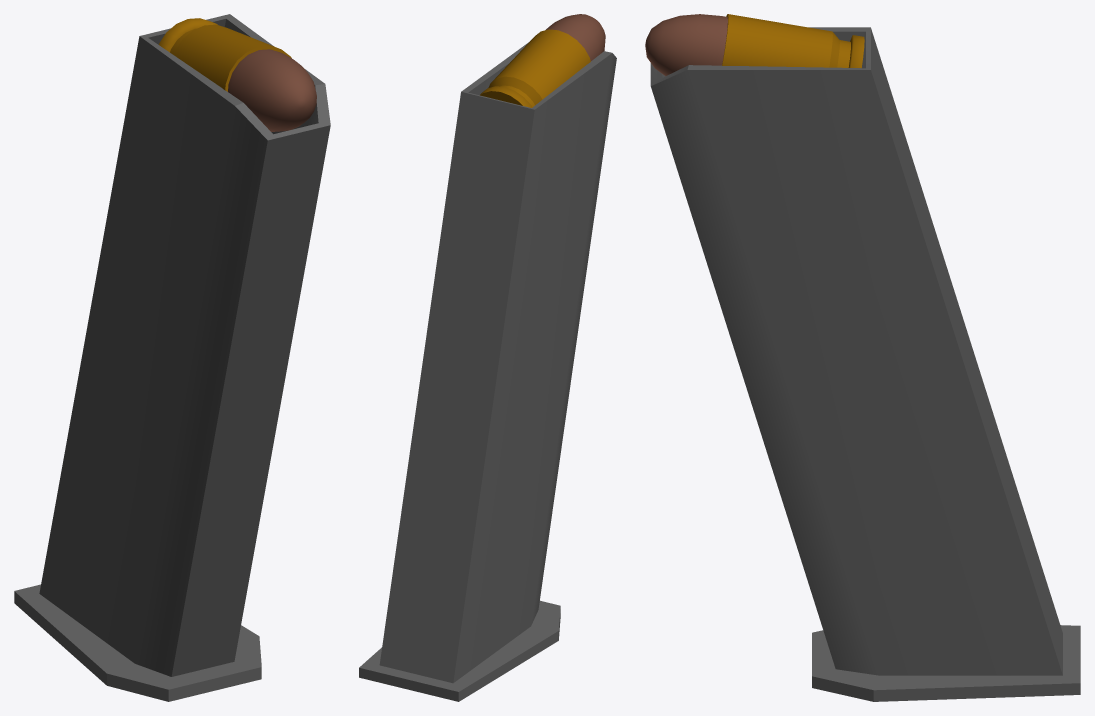
The model's file is Silenced_Mag.fbx.
The picture shows the model from 3 angles, left to right: view 1: azimuth 30°, elevation 25°; view 2: azimuth 150°, elevation 25°; view 3: azimuth 270°, elevation 25°; orthographic projection. The views are drawn at different scales.
Parts seen in each view (by area): view 1: Mag, Bullet2; view 2: Mag, Bullet2; view 3: Mag, Bullet2.
Boxes of the visible parts, box(x1,y1,x2,y2) form: Mag: box(14, 14, 330, 701); Bullet2: box(158, 18, 316, 131); Mag: box(359, 41, 616, 701); Bullet2: box(480, 14, 605, 107); Mag: box(650, 27, 1080, 701); Bullet2: box(645, 14, 864, 76).
Bounding box in the file's own units: 2.52 × 10.67 × 6.49.
